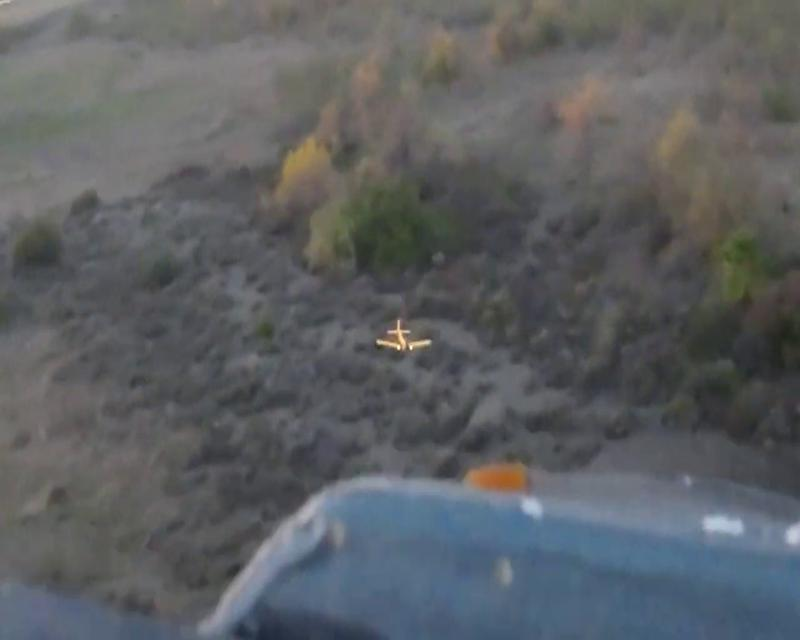UAV: (376, 319, 432, 353)
